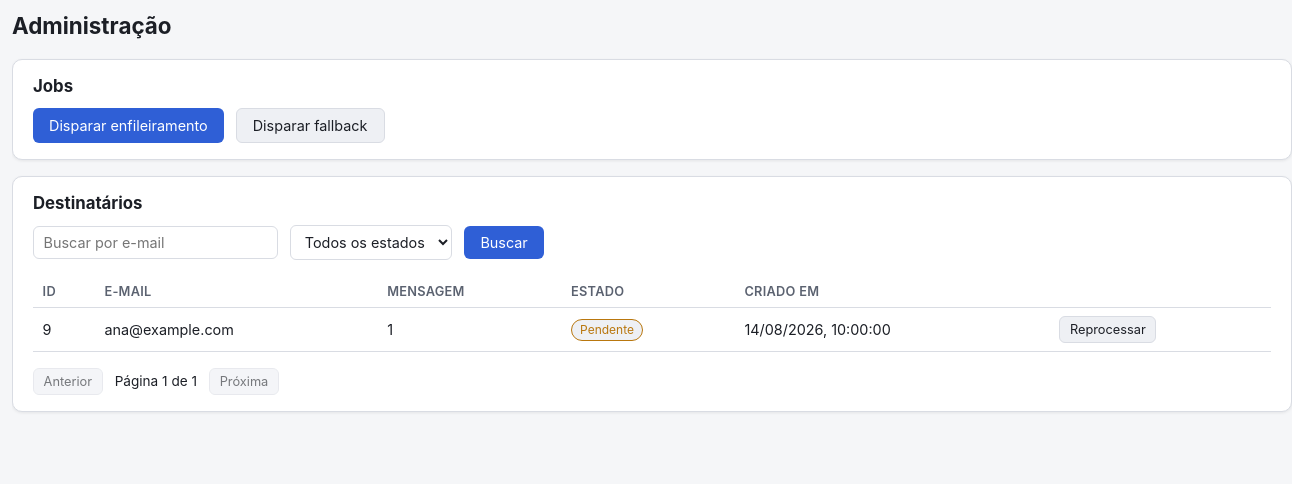
Admin page › shows error on job failure
Click the button "Disparar enfileiramento" at (128, 126), box [33,108,224,143]
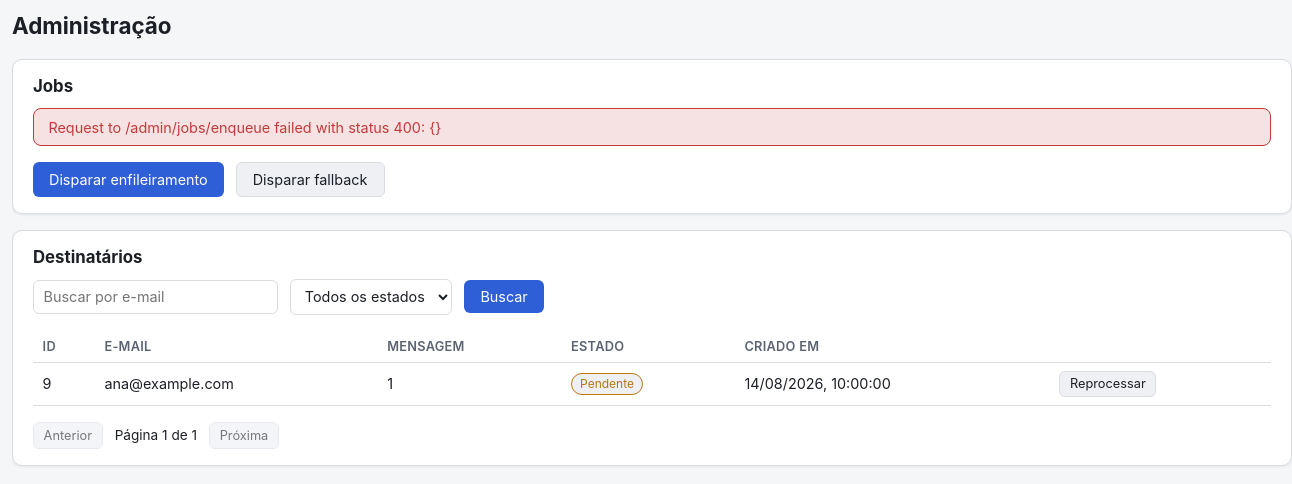
Check: the text "Request to /admin/jobs/enqueue failed with status 400: {}" is shown, box [33,108,1271,146]
